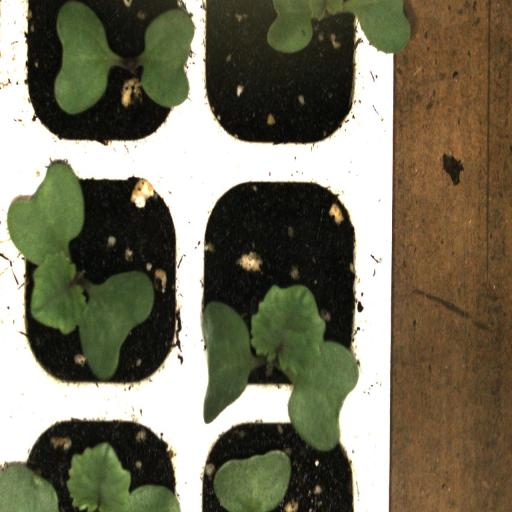Folha: (265, 0, 410, 55), (54, 0, 119, 115), (139, 8, 195, 108)
Germinacao: (188, 168, 370, 402), (16, 164, 192, 392), (14, 1, 193, 172), (194, 0, 368, 163)
